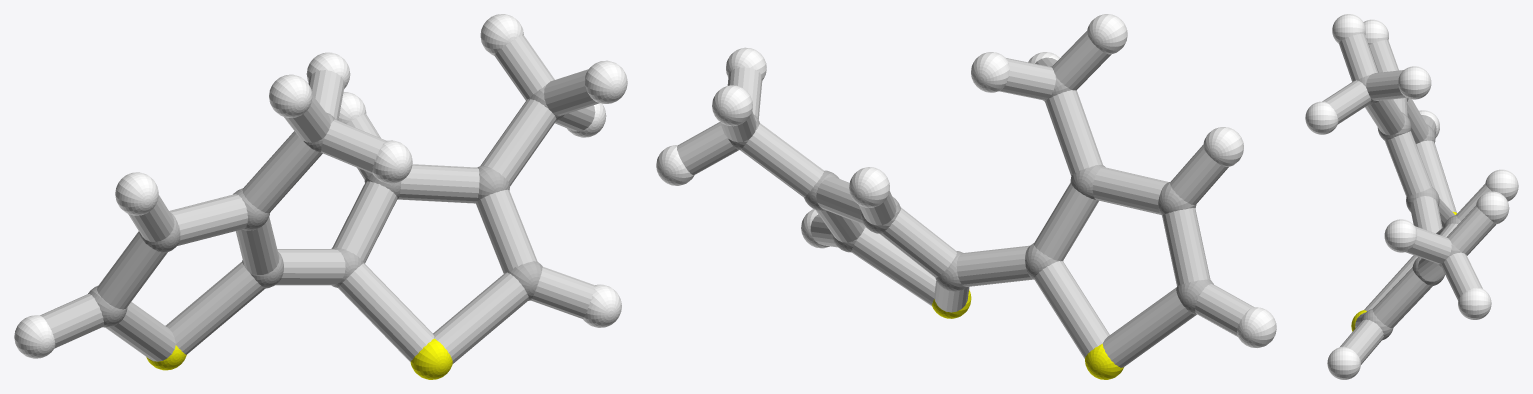
File: Methylthiophene_Phi_30_Theta_120_Methylthiophene.glb
3 views of the same model, side by side, from view 1: azimuth 30°, elevation 25°; view 2: azimuth 150°, elevation 25°; view 3: azimuth 270°, elevation 25° (orthographic). The views are drawn at different scales.
Parts seen in each view (by area): view 1: grp7965, grp3621, grp1, grp7241; view 2: grp7965, grp3621, grp1, grp7241; view 3: grp7965, grp3621, grp1.
Part boxes in pixels (x1,y1,x2,y2): grp7965: [40, 35, 599, 363]; grp3621: [14, 14, 627, 358]; grp1: [88, 85, 564, 327]; grp7241: [146, 338, 452, 379]; grp7965: [677, 31, 1254, 367]; grp3621: [656, 14, 1276, 347]; grp1: [728, 66, 1213, 314]; grp7241: [932, 289, 1123, 379]; grp7965: [1322, 34, 1495, 364]; grp3621: [1305, 14, 1518, 379]; grp1: [1357, 75, 1461, 340].
Bounding box in the file's own units: 9.84 × 5.28 × 3.81.
